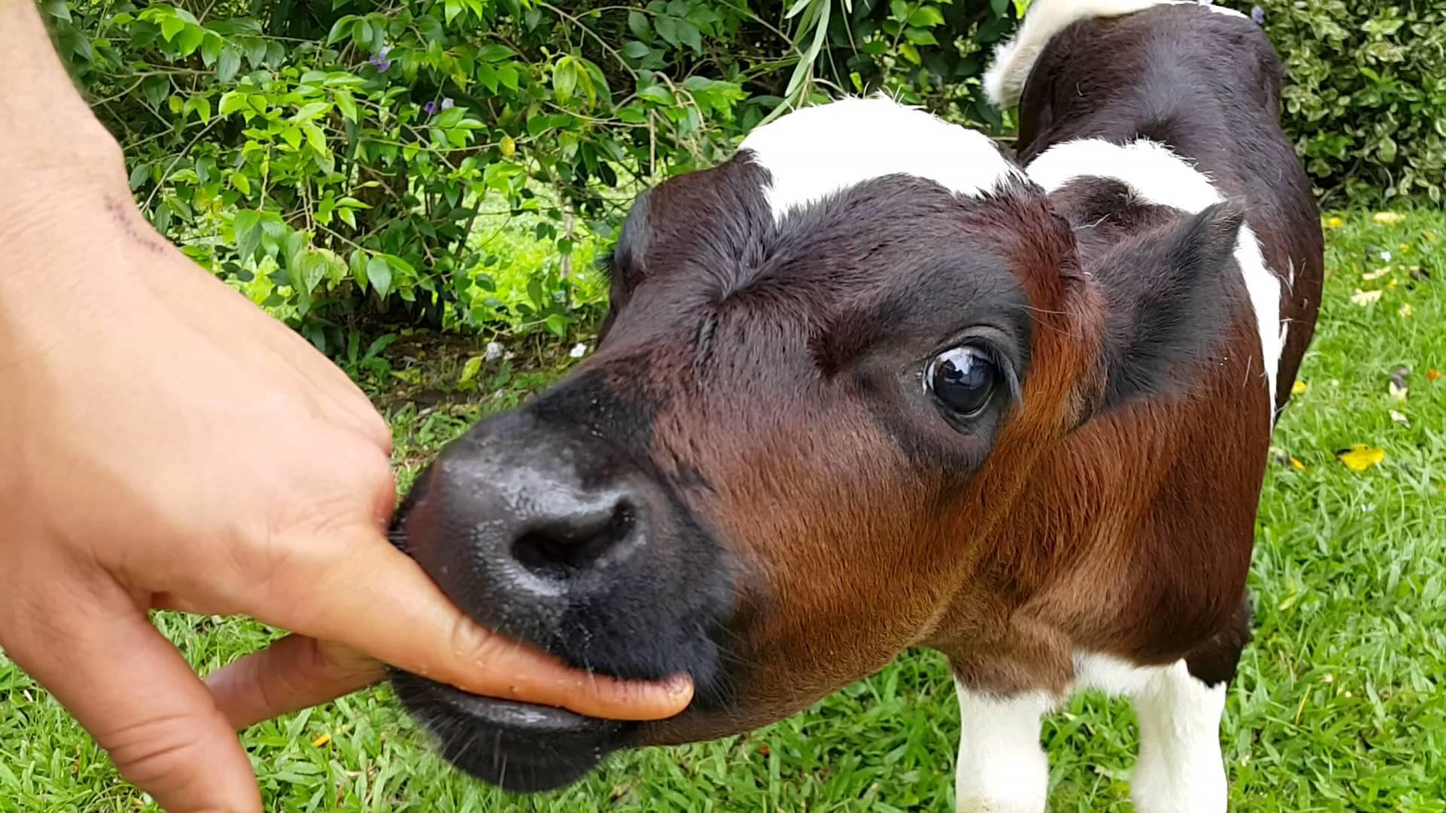cow: (389, 0, 1323, 812)
